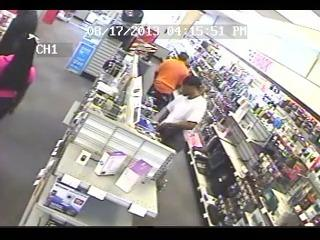shoplifting: (154, 73, 207, 157)
